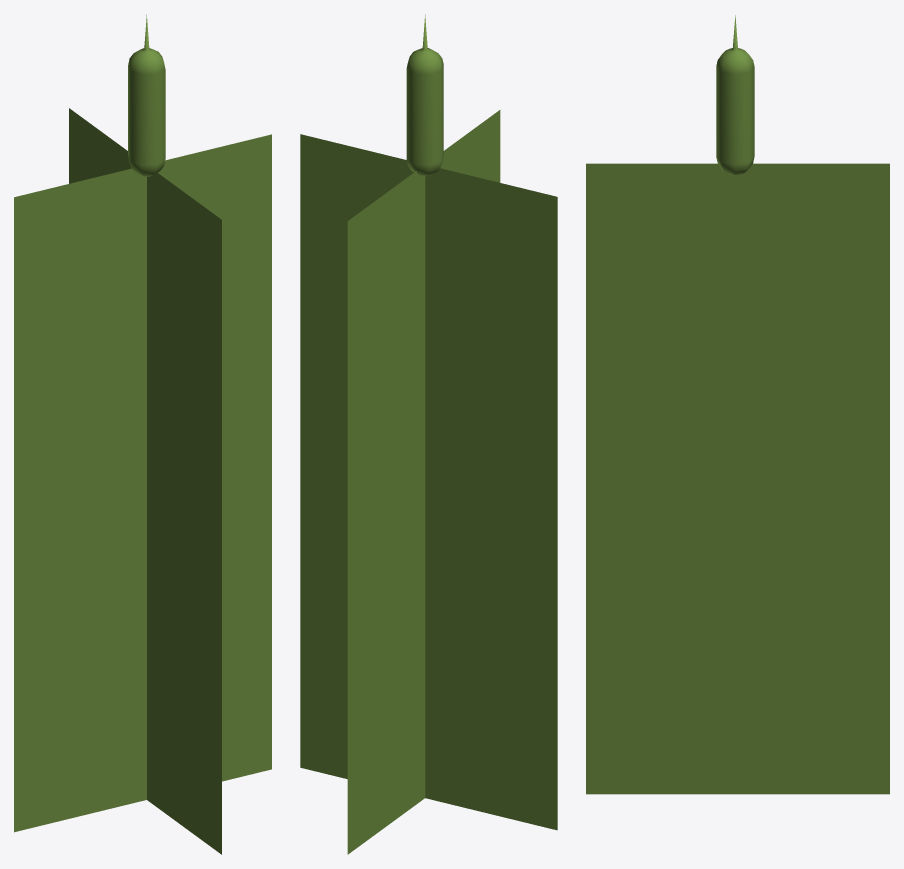
Rendered from CatTail_1.glb.
3 views of the same model, side by side, from view 1: azimuth 30°, elevation 25°; view 2: azimuth 150°, elevation 25°; view 3: azimuth 270°, elevation 25° (orthographic).
Parts seen in each view (by area): view 1: CatTail_1; view 2: CatTail_1; view 3: CatTail_1.
Boxes of the visible parts, bbox=[...] form: CatTail_1: bbox=[14, 14, 271, 854]; CatTail_1: bbox=[300, 14, 557, 854]; CatTail_1: bbox=[586, 15, 889, 794].
Bounding box in the file's own units: 0.2251 × 0.6555 × 0.2313.
